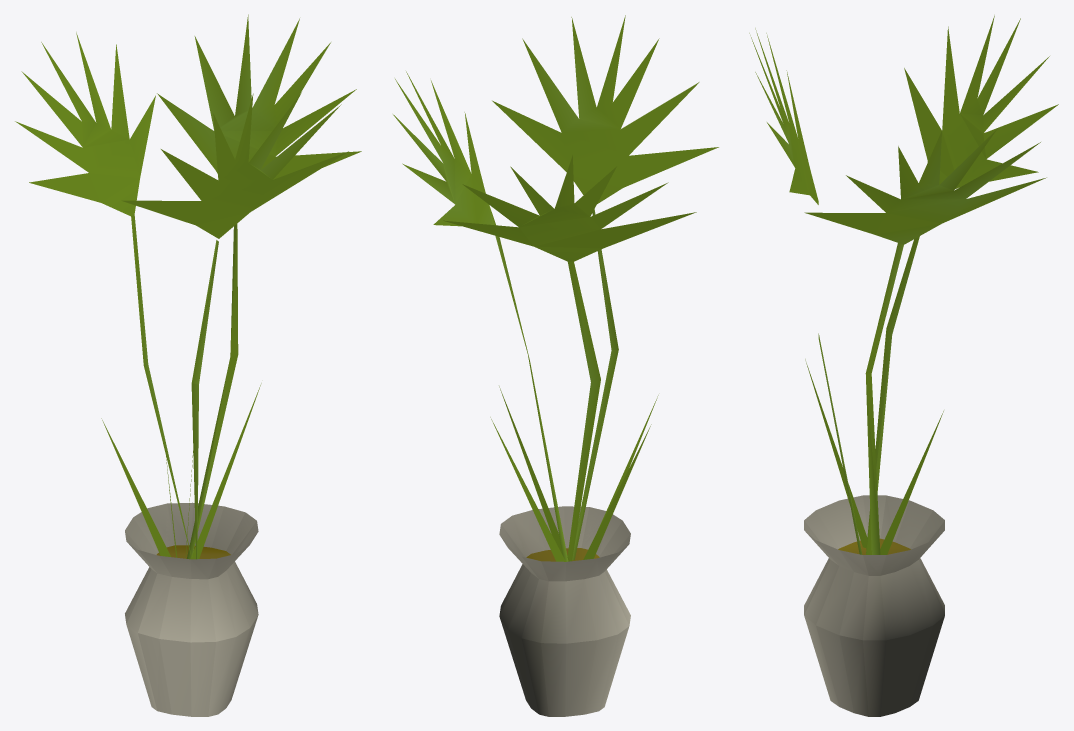
3 views of the same model, side by side, from view 1: azimuth 30°, elevation 25°; view 2: azimuth 150°, elevation 25°; view 3: azimuth 270°, elevation 25° (orthographic). The views are drawn at different scales.
Visible parts, largest first — view 1: model; view 2: model; view 3: model.
Boxes of the visible parts, bbox=[...] form: model: bbox=[15, 14, 361, 716]; model: bbox=[393, 15, 718, 716]; model: bbox=[749, 15, 1058, 716].
Size of the model in its own units: 0.9453 by 1.96 by 0.8281.
